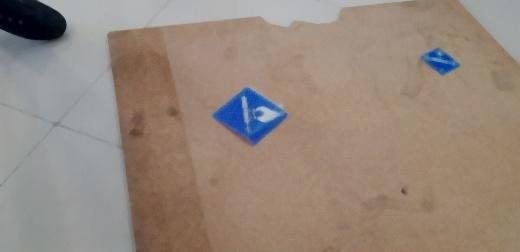dangerous-when-wet: (210, 84, 294, 148), (416, 46, 464, 78)
